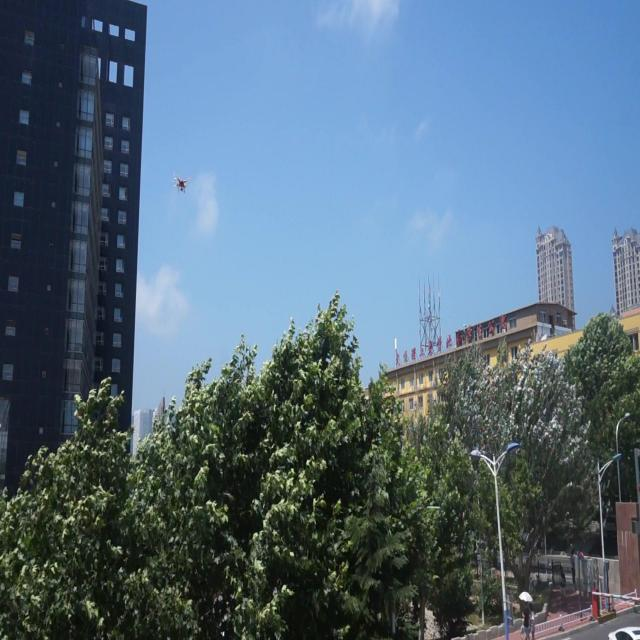UAV: (173, 173, 192, 194)
